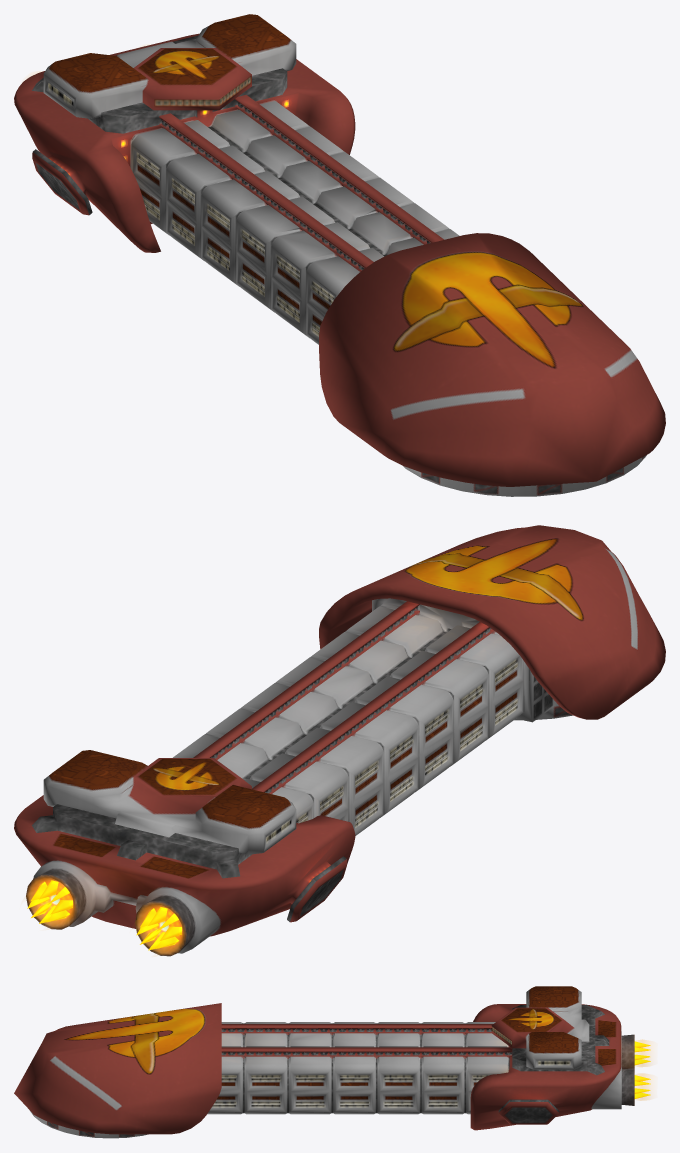
File: arsenal.gltf
The picture shows the model from 3 angles, top to bottom: view 1: azimuth 30°, elevation 25°; view 2: azimuth 150°, elevation 25°; view 3: azimuth 270°, elevation 25°; orthographic projection. The views are drawn at different scales.
Parts seen in each view (by area): view 1: base_glow; view 2: base_glow, glow1, glow2; view 3: base_glow, glow2, glow1.
Part boxes in pixels (bbox=[...]): base_glow: bbox=[14, 14, 665, 496]; base_glow: bbox=[14, 525, 665, 956]; glow1: bbox=[27, 880, 181, 950]; glow2: bbox=[30, 885, 176, 951]; base_glow: bbox=[14, 986, 634, 1138]; glow2: bbox=[637, 1039, 647, 1100]; glow1: bbox=[634, 1041, 650, 1098].
Bounding box in the file's own units: 7.57 × 3.4 × 23.55.
3 materials, 2 textured.
